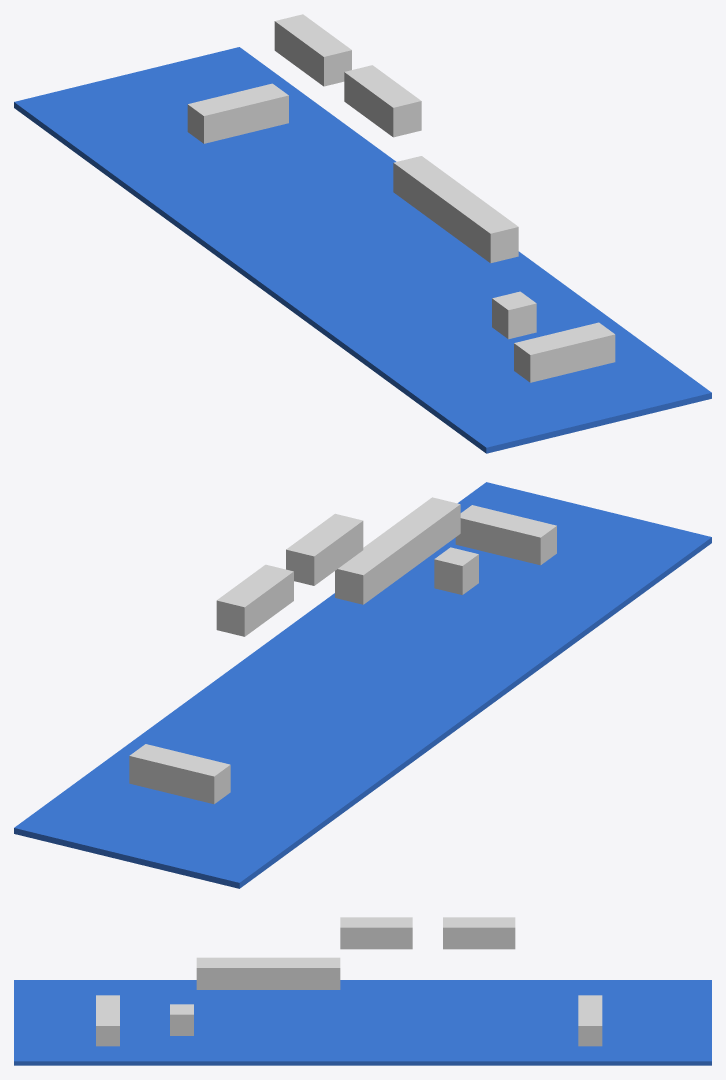
3 renders of one model, top to bottom at view 1: azimuth 30°, elevation 25°; view 2: azimuth 150°, elevation 25°; view 3: azimuth 270°, elevation 25°, orthographic. The views are drawn at different scales.
Visible parts, largest first — view 1: Cube.007, Cube, Cube.005, Cube.003, Cube.001, Cube.004, Cube.002, Cube.006; view 2: Cube.007, Cube.005, Cube, Cube.004, Cube.003, Cube.002, Cube.001, Cube.006; view 3: Cube.007, Cube.001, Cube.003, Cube.004, Cube.002, Cube.005, Cube, Cube.006.
Part boxes in pixels (x1,y1,x2,y2): Cube.007: (14, 47, 711, 453); Cube: (514, 322, 615, 382); Cube.005: (187, 83, 288, 143); Cube.003: (344, 65, 421, 137); Cube.001: (441, 191, 518, 263); Cube.004: (274, 14, 351, 86); Cube.002: (393, 156, 470, 226); Cube.006: (492, 291, 536, 339); Cube.007: (14, 482, 711, 888); Cube.005: (129, 744, 230, 804); Cube: (455, 505, 556, 565); Cube.004: (216, 564, 293, 636); Cube.003: (286, 513, 363, 585); Cube.002: (335, 533, 412, 604); Cube.001: (383, 497, 460, 568); Cube.006: (434, 547, 478, 594); Cube.007: (14, 980, 711, 1065); Cube.001: (196, 957, 269, 989); Cube.003: (340, 917, 412, 949); Cube.004: (443, 917, 515, 949); Cube.002: (267, 957, 340, 989); Cube.005: (578, 995, 602, 1046); Cube: (96, 995, 119, 1046); Cube.006: (170, 1004, 193, 1035).
Bounding box in the file's own units: 15.95 × 10.34 × 57.86.
